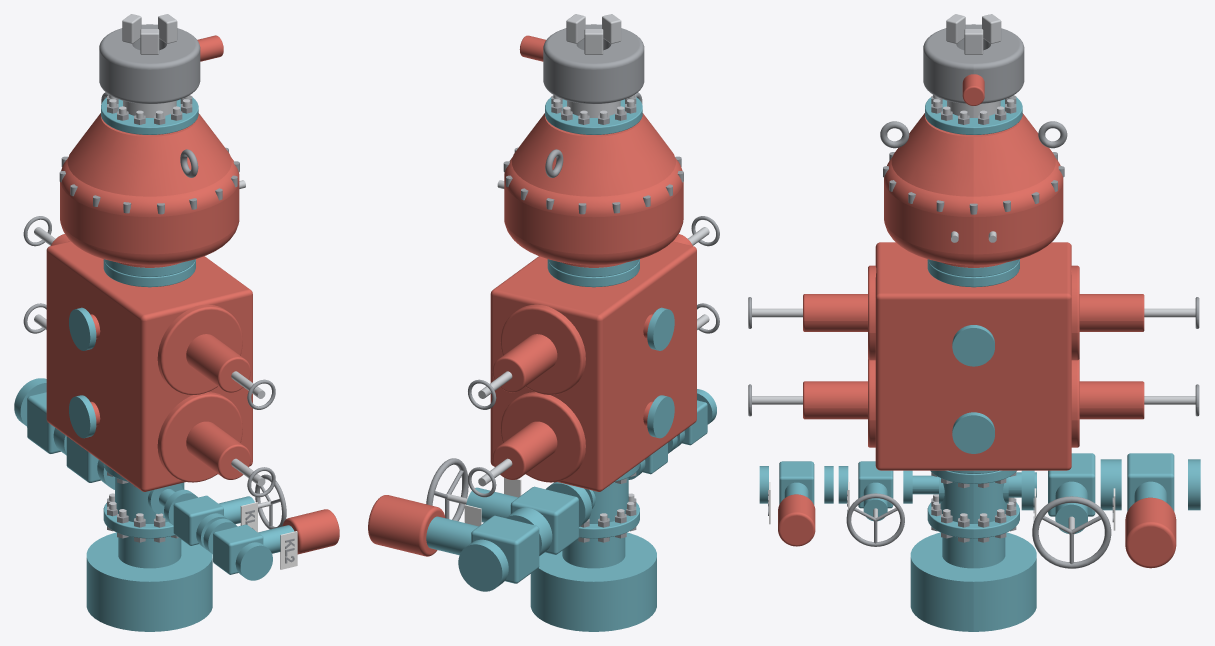
The model's file is sk575_bop.glb.
The picture shows the model from 3 angles, left to right: view 1: azimuth 30°, elevation 25°; view 2: azimuth 150°, elevation 25°; view 3: azimuth 270°, elevation 25°; orthographic projection.
Visible parts, largest first — view 1: sk575_bop_rojo, sk575_bop_azul, sk575_bop_acero_oscuro, sk575_bop_acero, sk575_bop_blanco; view 2: sk575_bop_rojo, sk575_bop_azul, sk575_bop_acero_oscuro, sk575_bop_acero, sk575_bop_blanco; view 3: sk575_bop_rojo, sk575_bop_azul, sk575_bop_acero_oscuro, sk575_bop_acero.
Boxes of the visible parts, left/top/right/bottom form: sk575_bop_rojo: left=46, top=35, right=339, bottom=554; sk575_bop_azul: left=14, top=97, right=294, bottom=631; sk575_bop_acero_oscuro: left=23, top=24, right=294, bottom=563; sk575_bop_acero: left=34, top=14, right=271, bottom=521; sk575_bop_blanco: left=240, top=502, right=297, bottom=569; sk575_bop_rojo: left=368, top=35, right=696, bottom=556; sk575_bop_azul: left=426, top=97, right=716, bottom=631; sk575_bop_acero_oscuro: left=426, top=24, right=719, bottom=542; sk575_bop_acero: left=446, top=14, right=709, bottom=521; sk575_bop_blanco: left=464, top=477, right=521, bottom=526; sk575_bop_rojo: left=778, top=74, right=1176, bottom=568; sk575_bop_azul: left=759, top=97, right=1200, bottom=631; sk575_bop_acero_oscuro: left=748, top=24, right=1199, bottom=568; sk575_bop_acero: left=752, top=14, right=1195, bottom=534.
Size of the model in its own units: 1.5 by 4.07 by 2.86.
